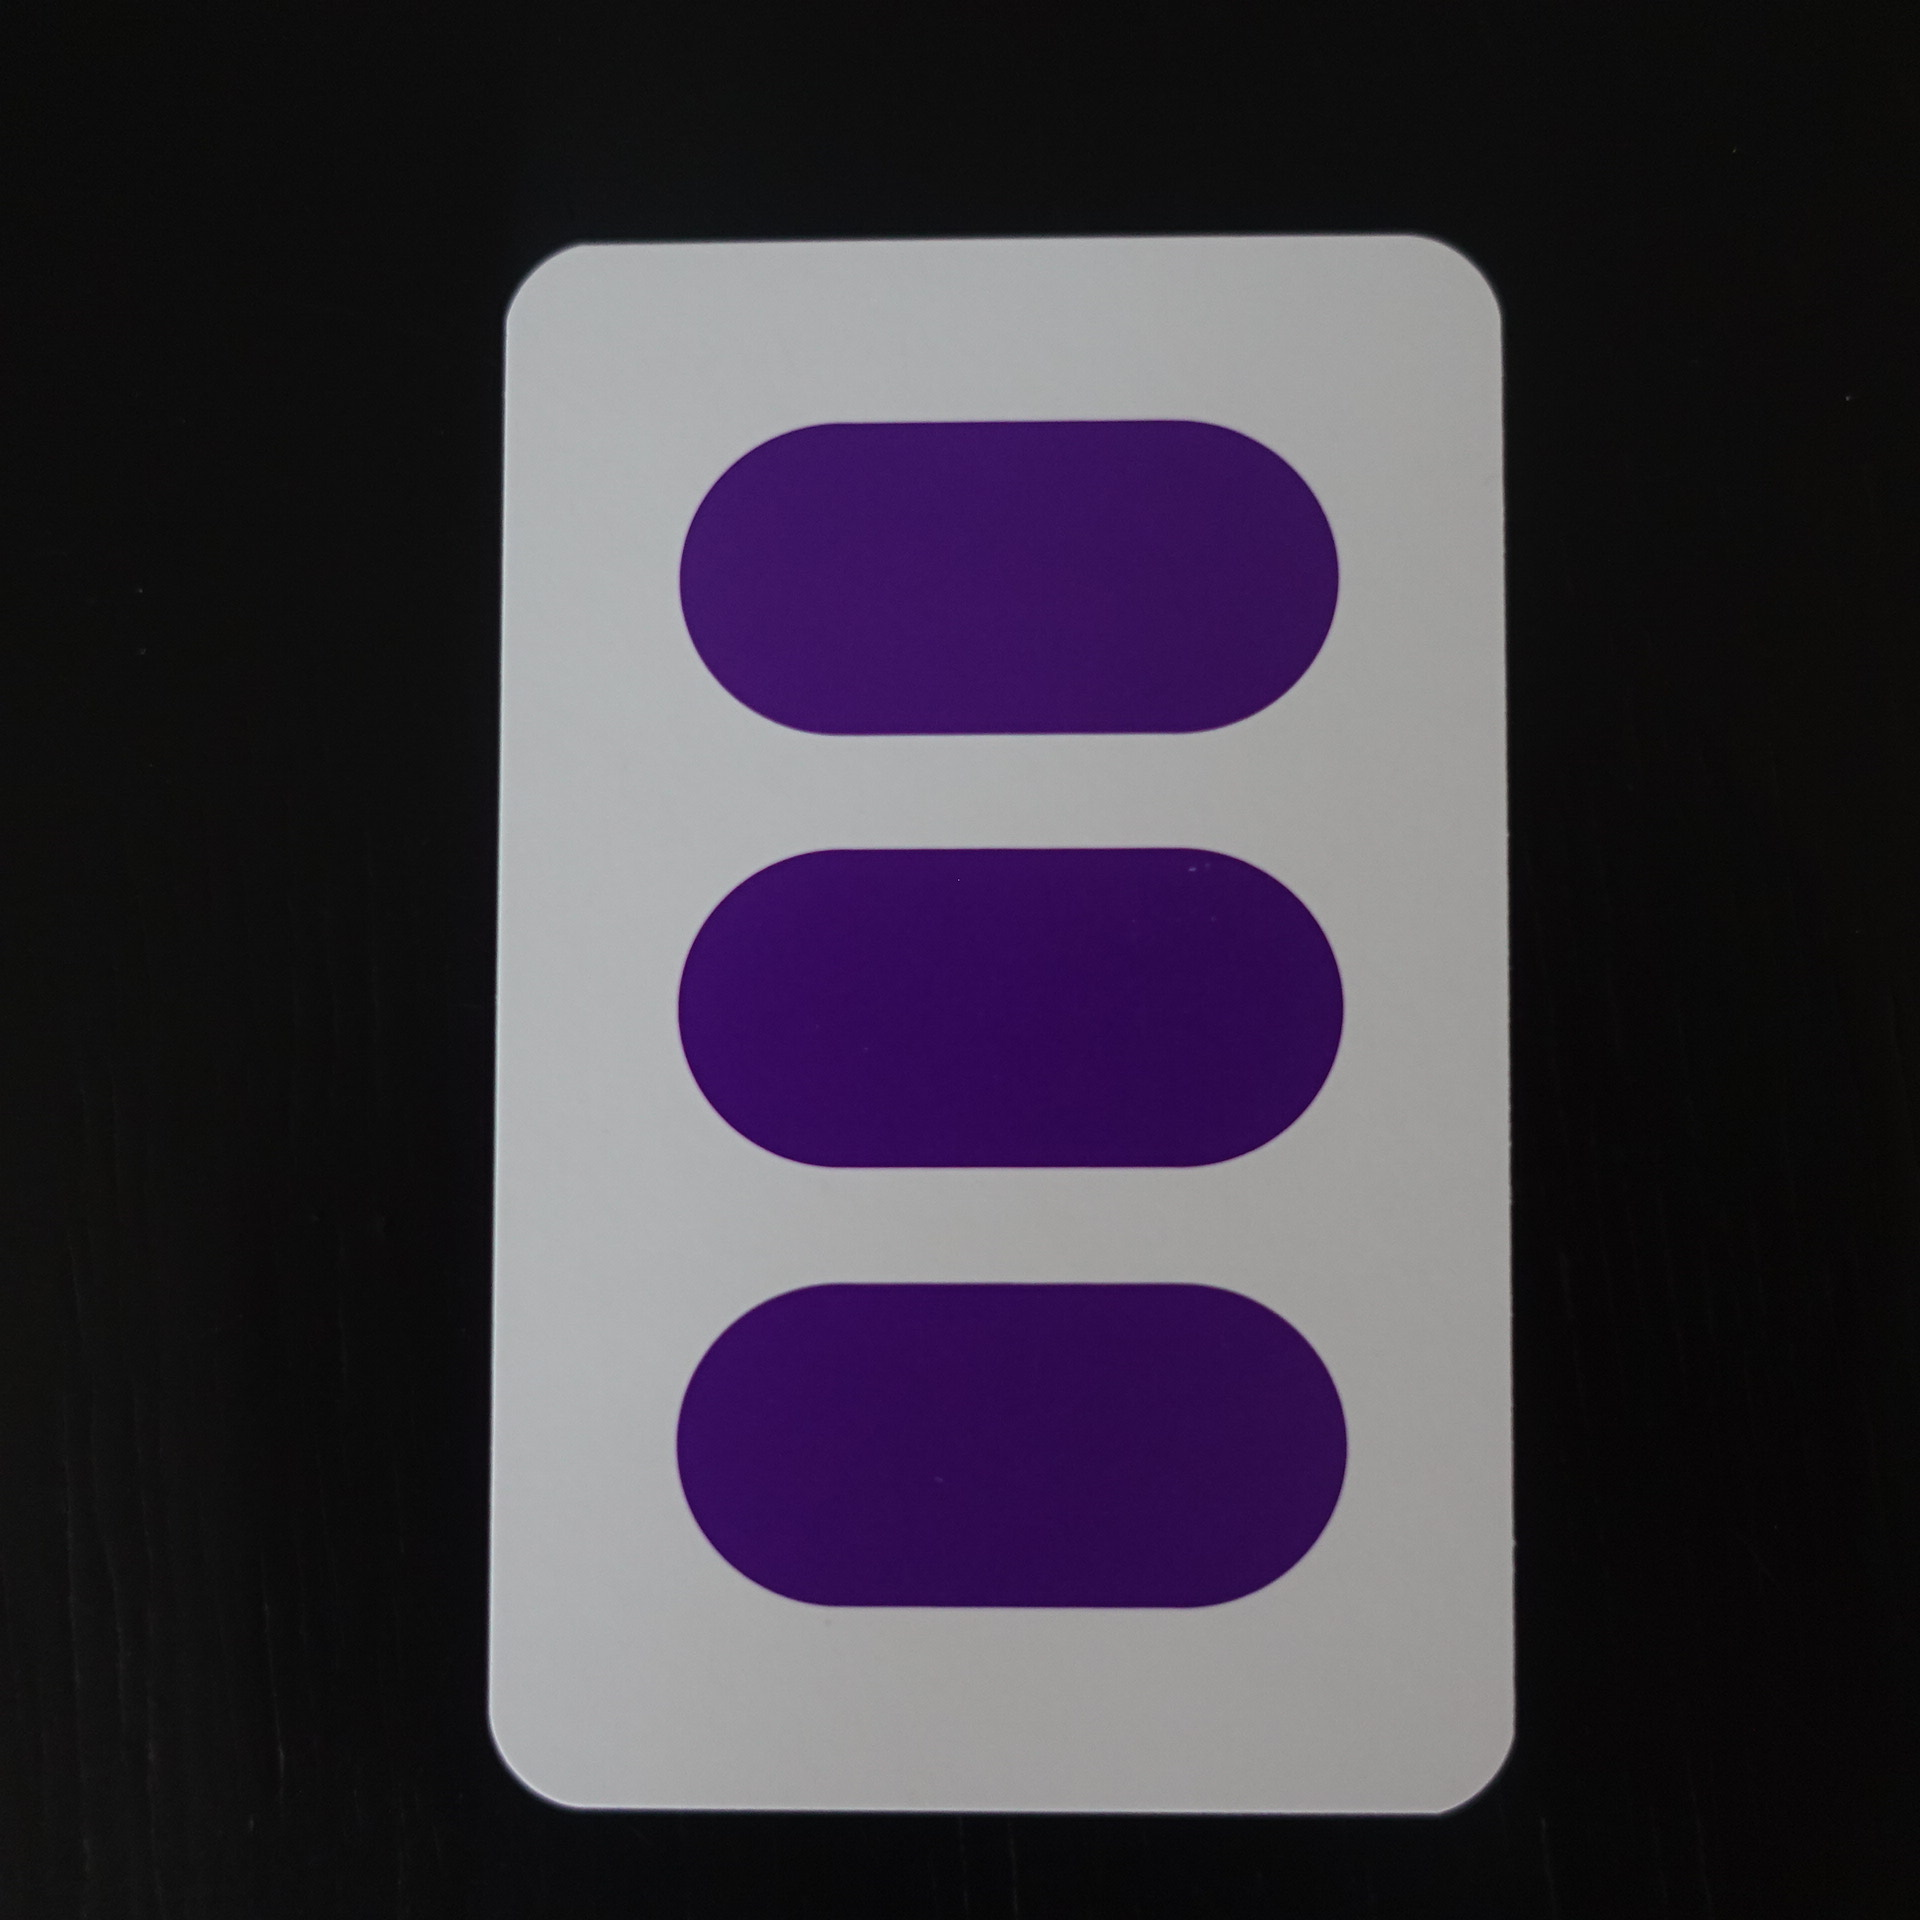c-2-f-d-r: (457, 204, 1547, 1857)
